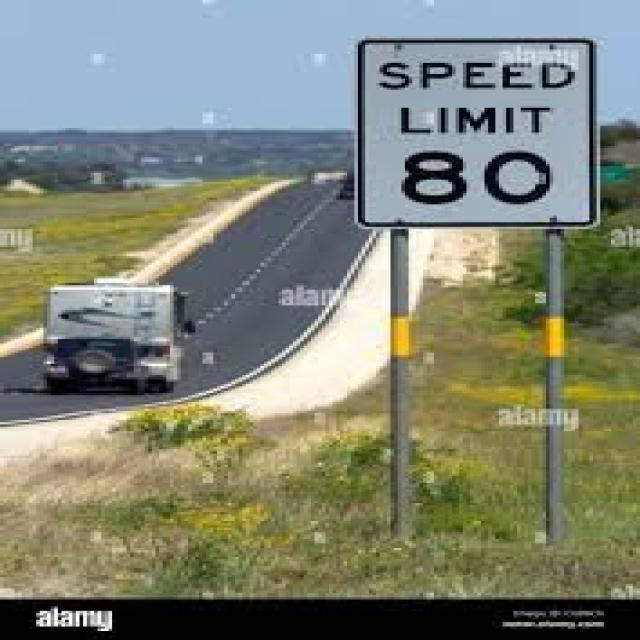speedLimit80: (356, 39, 602, 228)
